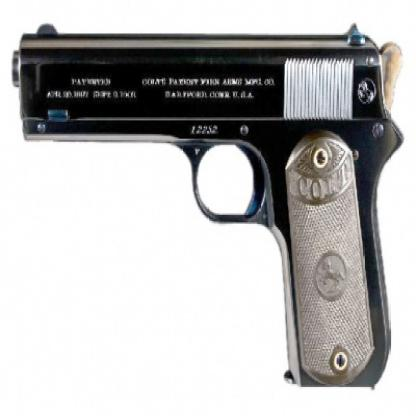Guns: (5, 15, 406, 393)
